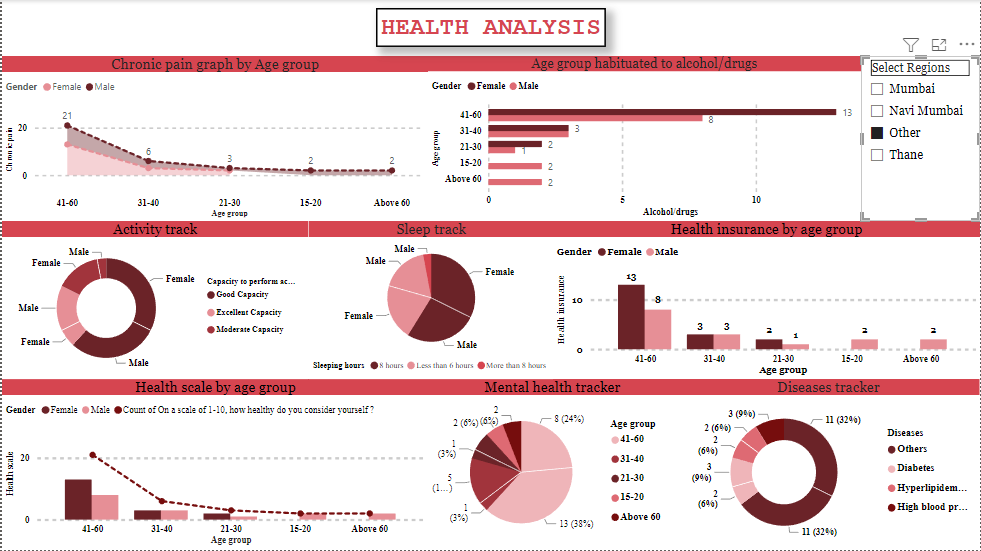

The dashboard page shown, as its layout file describes it:
{"tool":"powerbi","page":{"name":"Page 1","canvas":[1280,720],"ordinal":0},"visuals":[{"type":"clusteredColumnChart","title":"Health insurance by age group","fields":{"Series":["Health Analysis.Gender"],"Category":["Health Analysis.Age group"],"Y":["CountNonNull(Health Analysis.Do you have a health insurance ? )"]},"box":[721.3,289.5,558.7,206.6],"z":0},{"type":"slicer","fields":{"Values":["Health Analysis.Select your region of residence"]},"box":[1124.6,73.9,155.1,215.9],"z":1000},{"type":"lineClusteredColumnComboChart","title":"Health scale by age group","fields":{"Category":["Health Analysis.Age group"],"Series":["Health Analysis.Gender"],"Y":["CountNonNull(Health Analysis.On a scale of 1-10, how healthy do you consider yourself ?)"],"Y2":["CountNonNull(Health Analysis.On a scale of 1-10, how healthy do you consider yourself ?)"]},"box":[0,496.1,558.7,223.5],"z":2000},{"type":"stackedAreaChart","title":"Chronic pain graph by Age group ","fields":{"Category":["Health Analysis.Age group"],"Y":["CountNonNull(Health Analysis.Do you experience any chronic pain ?)"],"Series":["Health Analysis.Gender"]},"box":[0,73.4,558.3,216.1],"z":3000},{"type":"donutChart","title":"Activity track","fields":{"Category":["Health Analysis.In your opinion, at what capacity can you perform everyday activities ? "],"Series":["Health Analysis.Gender"],"Y":["CountNonNull(Health Analysis.Gender)"]},"box":[0,289.5,401.3,206.6],"z":4000},{"type":"clusteredBarChart","title":"Age group  habituated to alcohol/drugs","fields":{"Y":["CountNonNull(Health Analysis.Are you habituated to alcohol/drugs ?)"],"Series":["Health Analysis.Gender"],"Category":["Health Analysis.Age group"]},"box":[558.3,73.4,566.6,216.1],"z":5000},{"type":"pieChart","title":"Mental health tracker","fields":{"Category":["Health Analysis.Age group"],"Y":["CountNonNull(Health Analysis.Does your mental well being has an affect on your physical health ?)"],"Series":["Health Analysis.Does your mental well being has an affect on your physical health ?"]},"box":[558.3,495.9,325.5,223],"z":6000},{"type":"donutChart","title":"Diseases tracker","fields":{"Series":["Health Analysis.Gender"],"Category":["Health Analysis.Do you have any hereditary conditions/ diseases ?"],"Y":["CountNonNull(Health Analysis.Do you have any hereditary conditions/ diseases ?)"]},"box":[883.8,495.9,396.2,223],"z":7000},{"type":"pieChart","title":"Sleep track","fields":{"Category":["Health Analysis.How much hours of sleep do you get on a daily basis ? "],"Y":["CountNonNull(Health Analysis.Gender)"],"Series":["Health Analysis.Gender"]},"box":[401.3,289.5,320,206.6],"z":8000},{"type":"shape","box":[489,11.1,300.6,51.3],"z":9000}]}

Visuals, with their boxes in screenshot pixels (x1, y1, x2, y2), scaled from the page's 1280x720 canvas onto the 981x551 screenshot:
"Health insurance by age group" clusteredColumnChart: <region>553, 222, 980, 380</region>
slicer - Health Analysis.Select your region of residence: <region>862, 57, 980, 222</region>
"Health scale by age group" lineClusteredColumnComboChart: <region>0, 380, 428, 550</region>
"Chronic pain graph by Age group " stackedAreaChart: <region>0, 56, 428, 222</region>
"Activity track" donutChart: <region>0, 222, 308, 380</region>
"Age group  habituated to alcohol/drugs" clusteredBarChart: <region>428, 56, 862, 222</region>
"Mental health tracker" pieChart: <region>428, 380, 677, 550</region>
"Diseases tracker" donutChart: <region>677, 380, 980, 550</region>
"Sleep track" pieChart: <region>308, 222, 553, 380</region>
shape: <region>375, 8, 605, 48</region>
